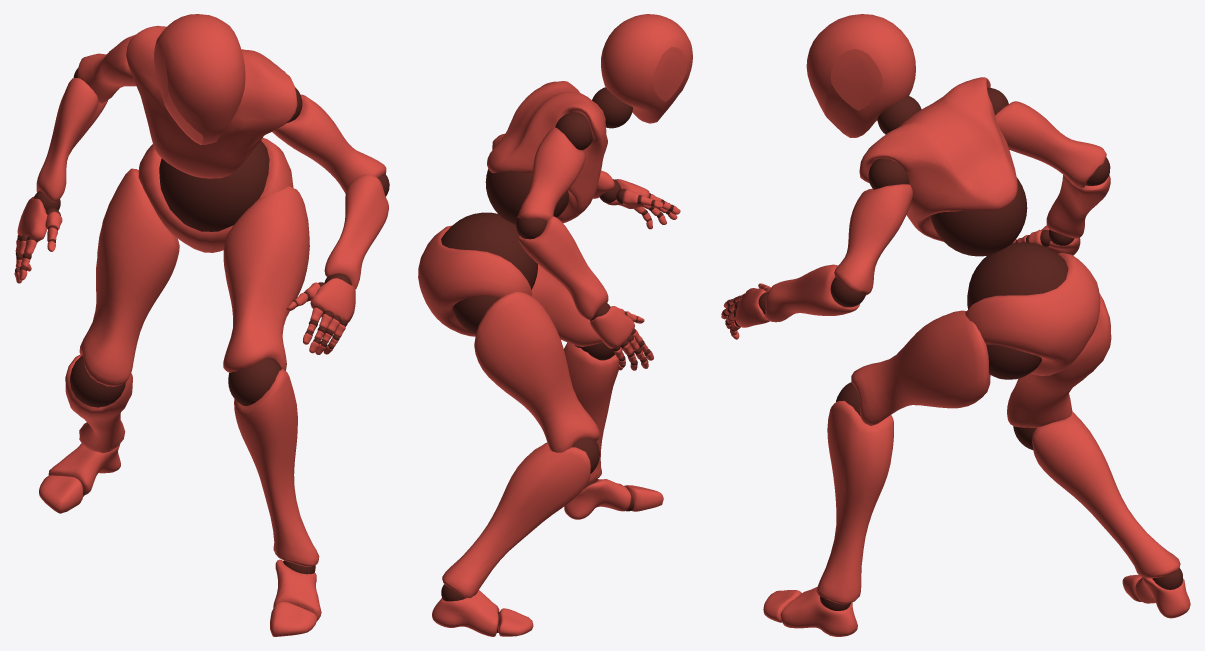
The picture shows the model from 3 angles, left to right: view 1: azimuth 30°, elevation 25°; view 2: azimuth 150°, elevation 25°; view 3: azimuth 270°, elevation 25°; orthographic projection. The views are drawn at different scales.
Visible parts, largest first — view 1: Beta_Surface, Beta_Joints; view 2: Beta_Surface, Beta_Joints; view 3: Beta_Surface, Beta_Joints.
Boxes of the visible parts, x1,y1,x2,y2 form: Beta_Surface: (14,14,388,636); Beta_Joints: (15,68,389,574); Beta_Surface: (418,14,692,636); Beta_Joints: (441,87,673,632); Beta_Surface: (721,14,1190,636); Beta_Joints: (722,87,1182,610).
Size of the model in its own units: 0.6827 by 1.41 by 1.05.
